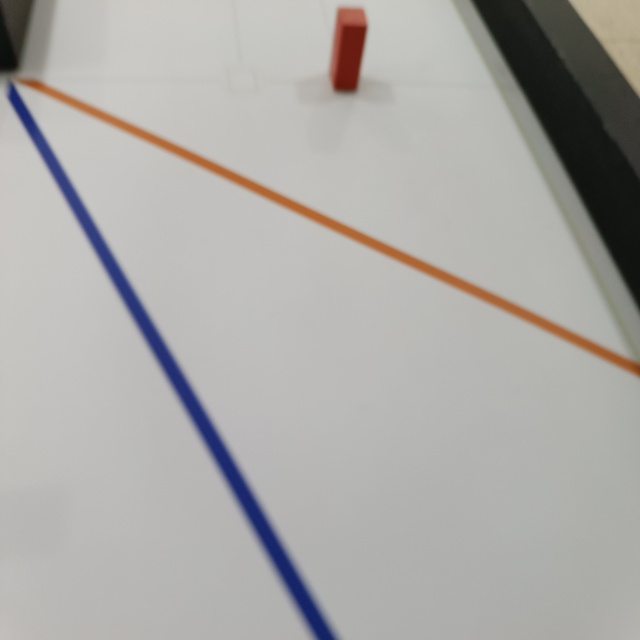blue line: (3, 69, 336, 637)
orange line: (16, 77, 640, 374)
red rectangular prism: (327, 8, 370, 95)
